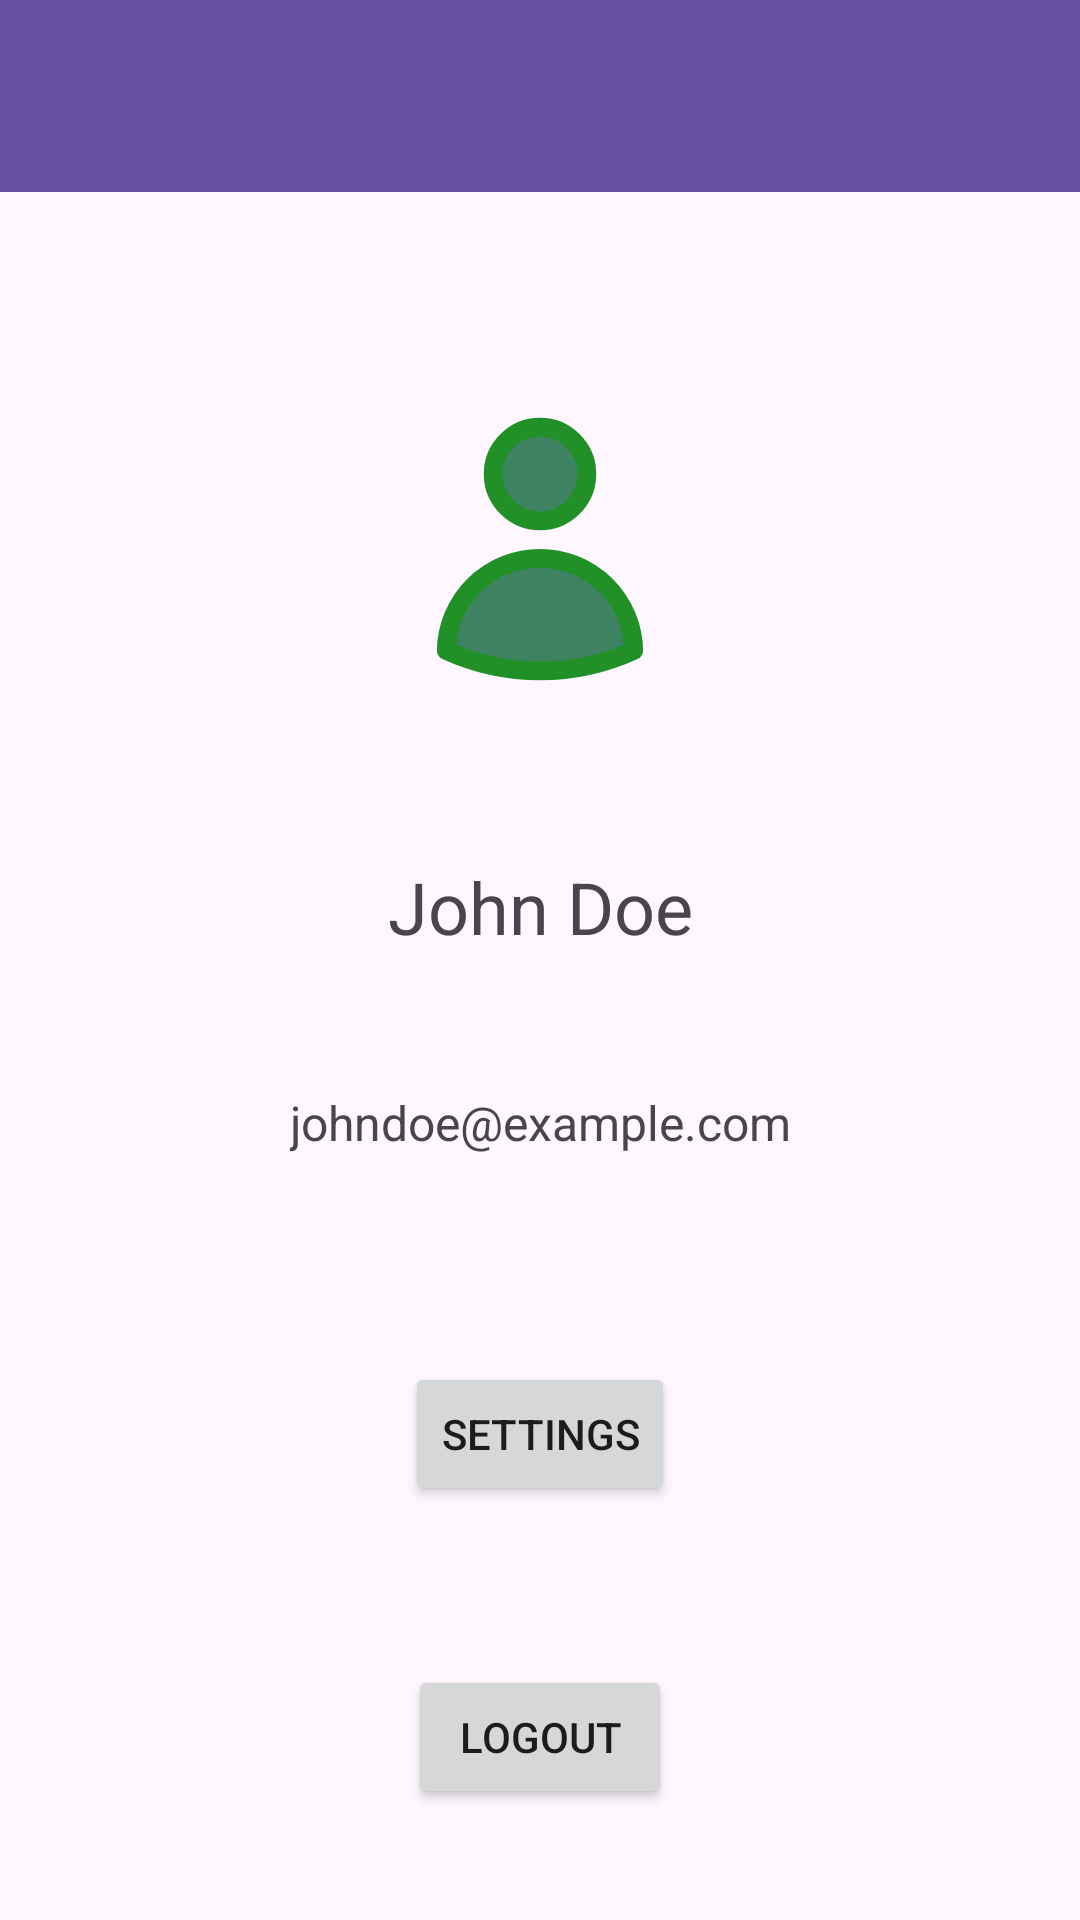

Icons on this 1080px×1920px Android screen, each with the point to tap as point (x, y):
profile: point (540, 549)
